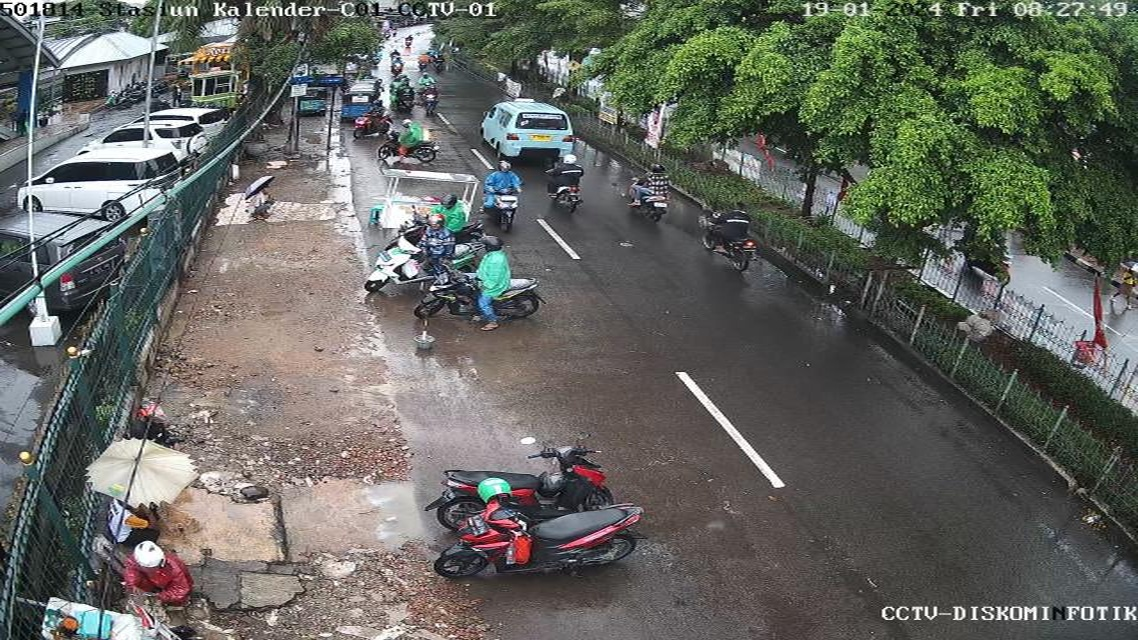Gerobak: (373, 166, 482, 227)
